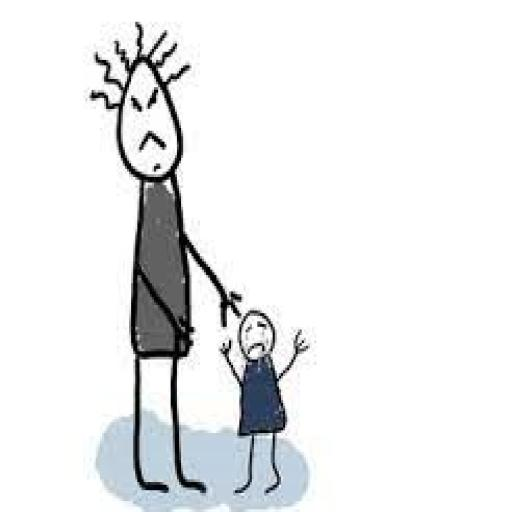person: (86, 0, 238, 507), (218, 288, 318, 512)
